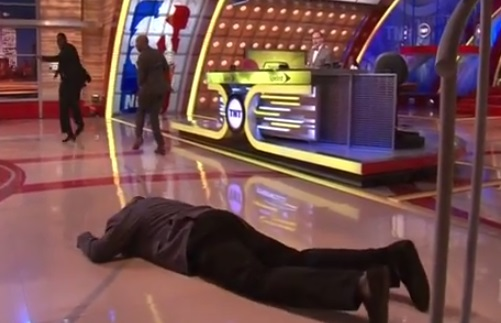collapsed: (8, 163, 432, 323)
